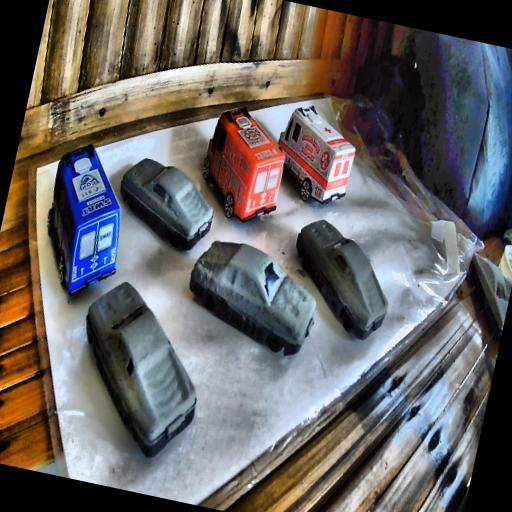ambulance: (268, 98, 362, 211)
fire_truck: (193, 99, 294, 228)
normal_car: (60, 276, 218, 464), (180, 234, 321, 358), (280, 218, 403, 344), (108, 153, 222, 257), (455, 251, 512, 335)
police car: (31, 138, 141, 302)
